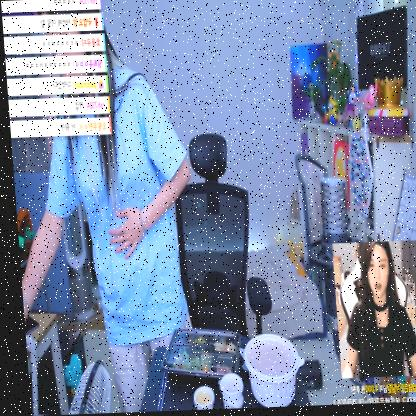donation: (316, 241, 416, 407)
streamer: (0, 0, 201, 416)
